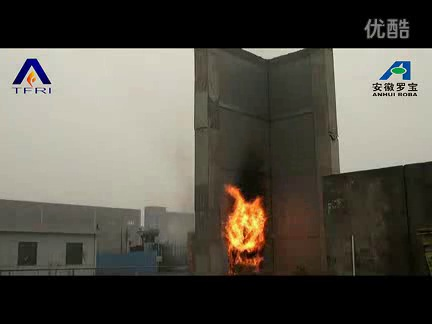fire: (219, 181, 269, 275)
